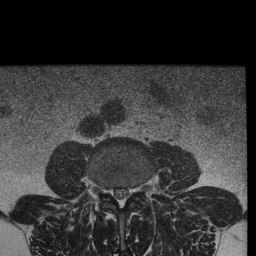CCS_normal: (117, 181, 125, 215)
LFS_stenosis: (133, 179, 141, 199)
LLS_normal: (125, 182, 133, 204)
RFS_stenosis: (102, 179, 109, 202)
RLS_normal: (109, 180, 117, 205)
